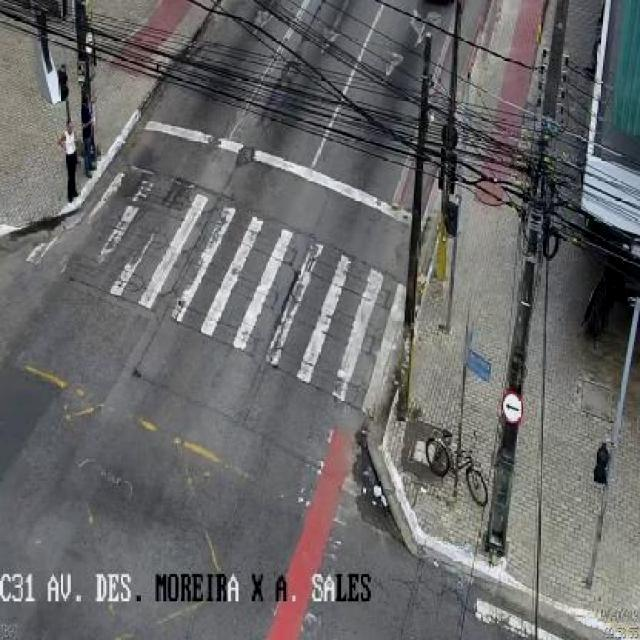Cycle: (420, 425, 490, 506)
